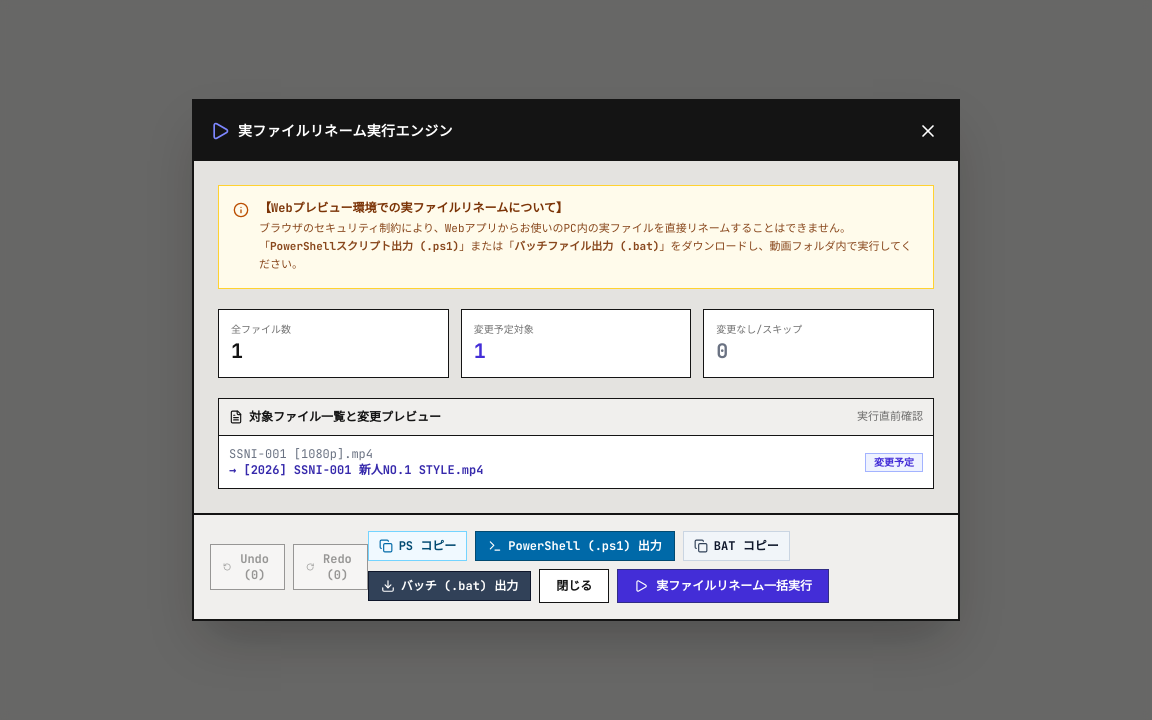
Scenario: RenameExecutionModal Component Suite › copies Batch script to clipboard and shows feedback
Click the button "BAT コピー". click: click(736, 546)
box: top-left (683, 531), bottom-right (790, 561)
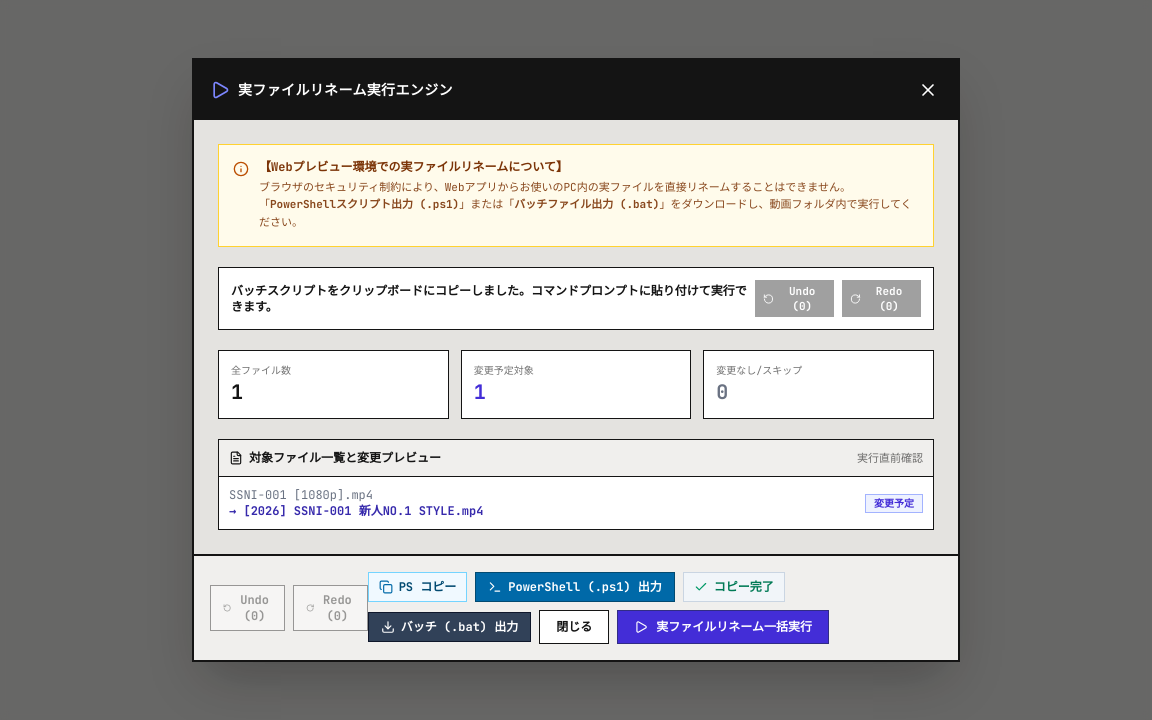
Result: the text "バッチスクリプトをクリップボードにコピーしました。コマンドプロンプトに貼り付けて実行できます。" is shown at top-left (231, 283), bottom-right (755, 315)
